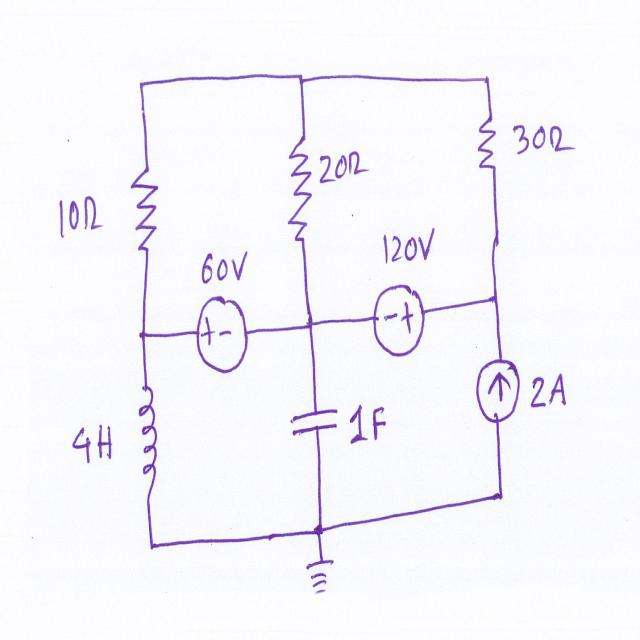capacitor: (288, 397, 342, 446)
current_source: (466, 354, 524, 435)
ground: (290, 548, 346, 604)
inductor: (133, 380, 181, 513)
resistor: (125, 155, 166, 270), (283, 126, 314, 255), (468, 110, 505, 182)
voltage_source: (194, 293, 253, 377), (368, 276, 427, 358)
